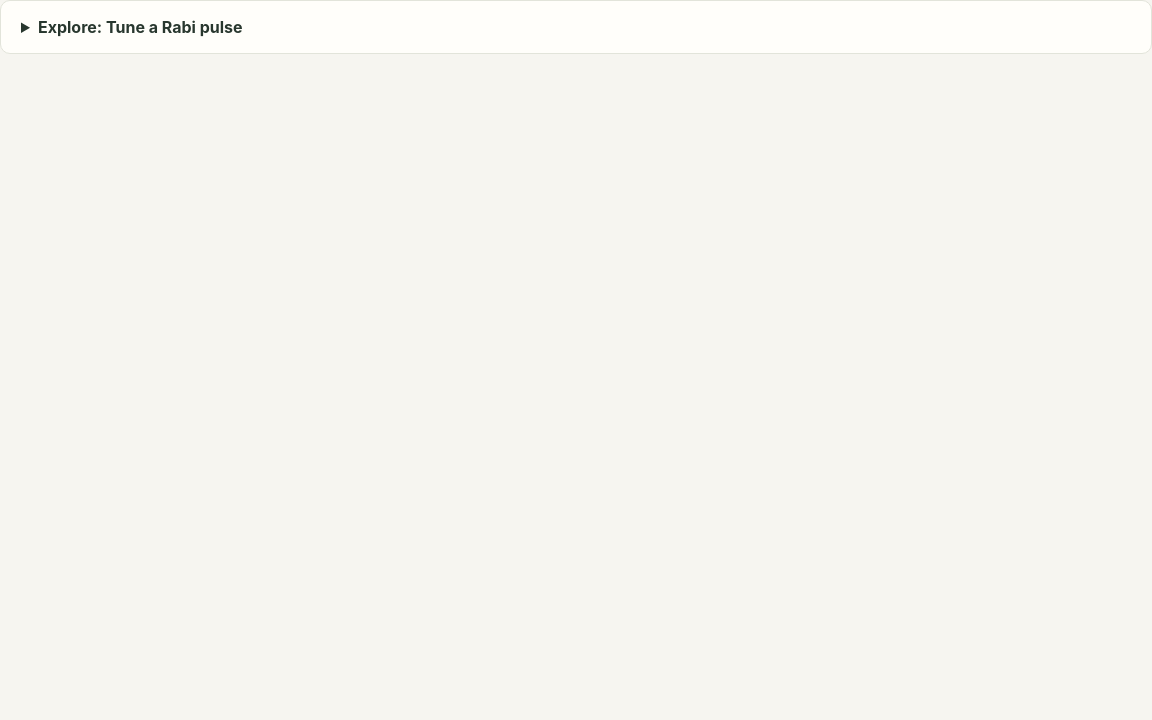
Scenario: reduces the maximum excited population and moves the first Rabi peak at nonzero detuning
Click the heading "Explore: Tune a Rabi pulse": [140, 27] box [38,17,243,37]
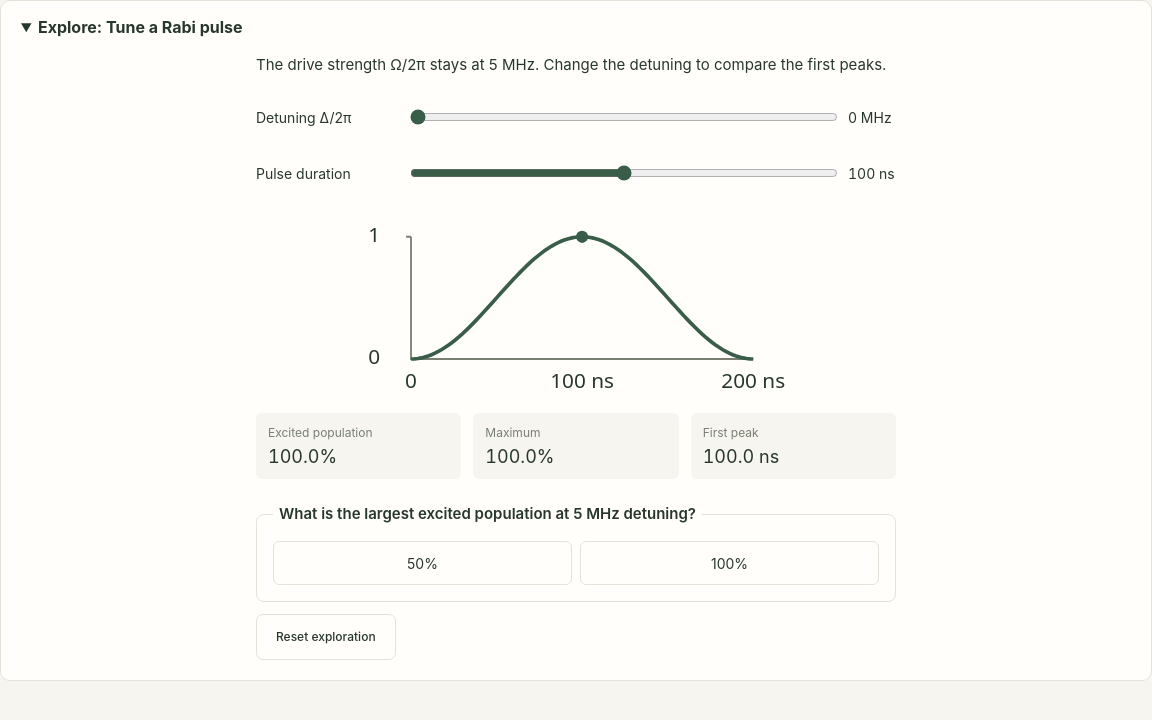
Expected: the text "100.0 ns" is shown, [703,446,779,467]
Set the slider labelled "Detuning Δ/2π" to "5": [624, 117] box [410,95,838,139]
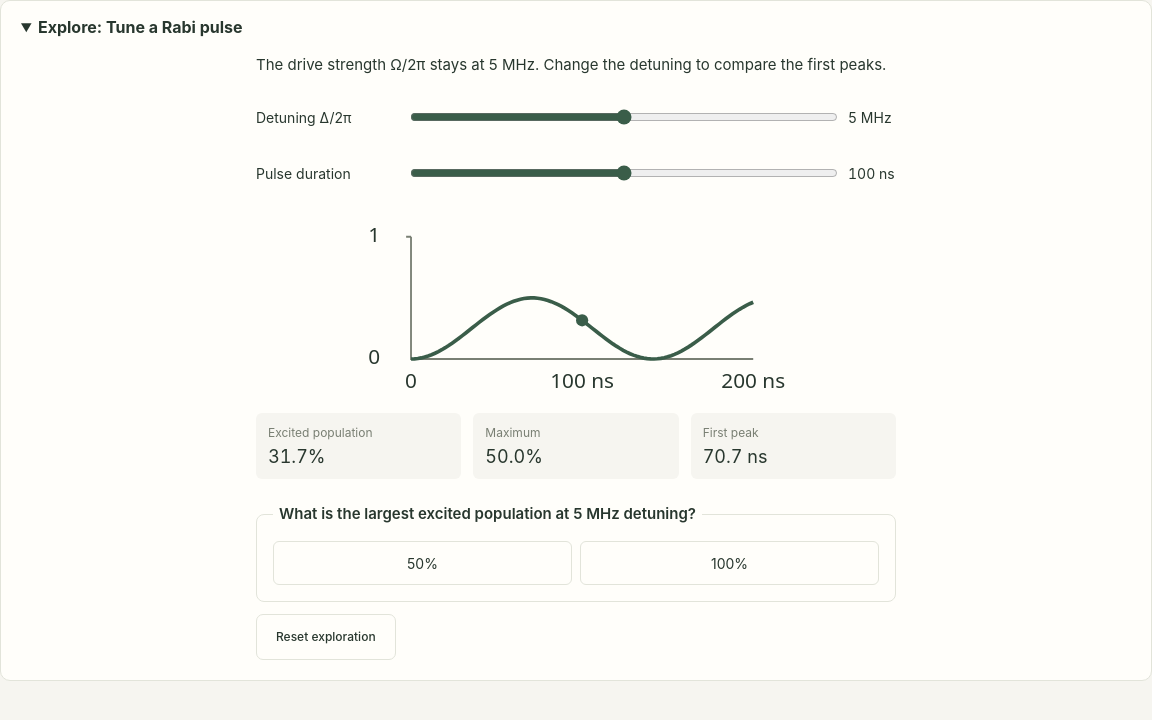
Expected: the text "70.7 ns" is shown, [703,446,768,467]
